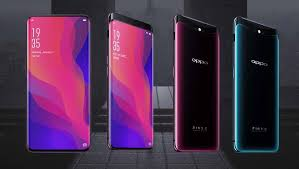oppo: (20, 11, 94, 153), (105, 13, 157, 151), (171, 14, 223, 152), (229, 16, 281, 154)
